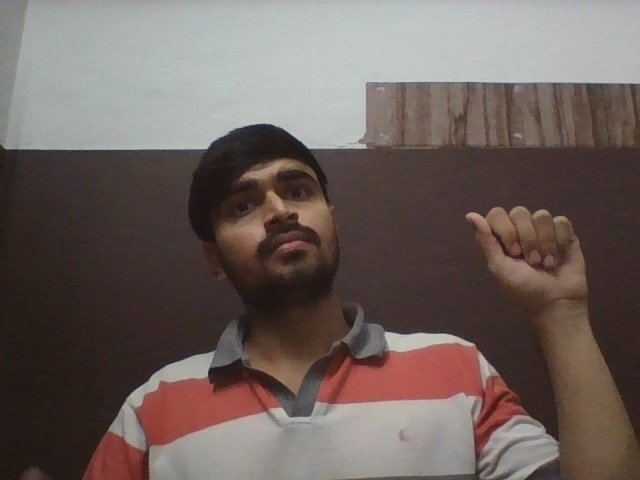A: (465, 205, 589, 307)
